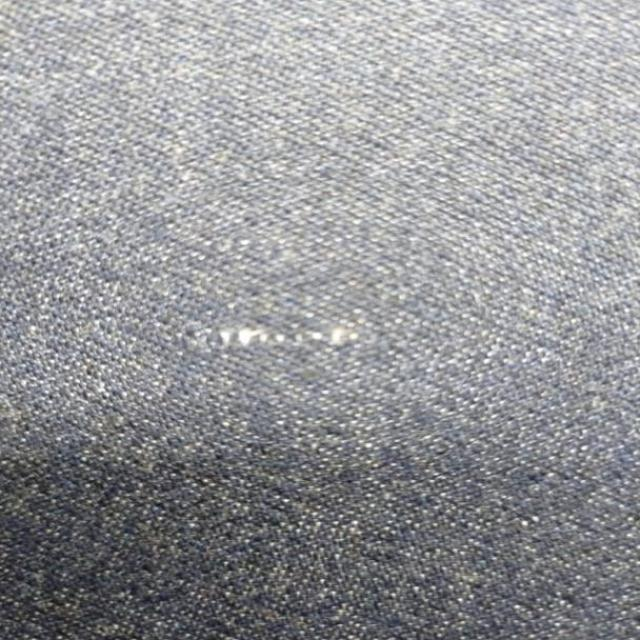Knot: (217, 326, 360, 348)
